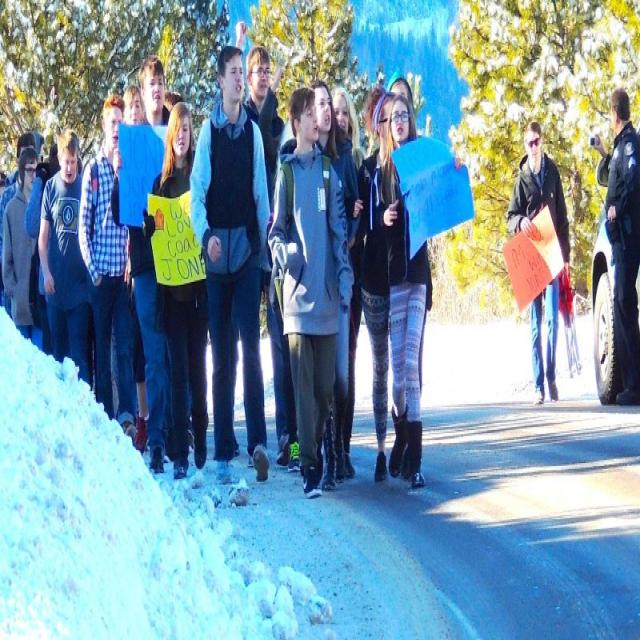body: (266, 82, 356, 502), (190, 48, 272, 484), (378, 92, 462, 483), (110, 53, 180, 478), (0, 125, 101, 401), (140, 96, 210, 484), (344, 80, 402, 488), (76, 89, 139, 450), (308, 79, 362, 495), (242, 43, 292, 470), (506, 116, 572, 408), (258, 61, 304, 470), (591, 84, 639, 408), (328, 84, 366, 484), (36, 125, 92, 388), (386, 269, 436, 489), (122, 82, 151, 457), (0, 145, 44, 354), (23, 140, 61, 355), (153, 341, 195, 462), (386, 64, 416, 110), (160, 82, 187, 125)
